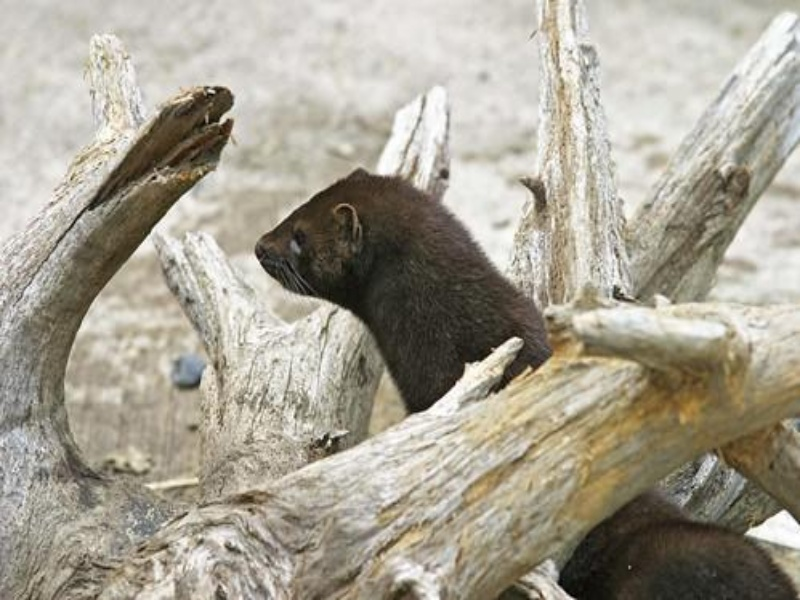minkish: (251, 165, 793, 600)
